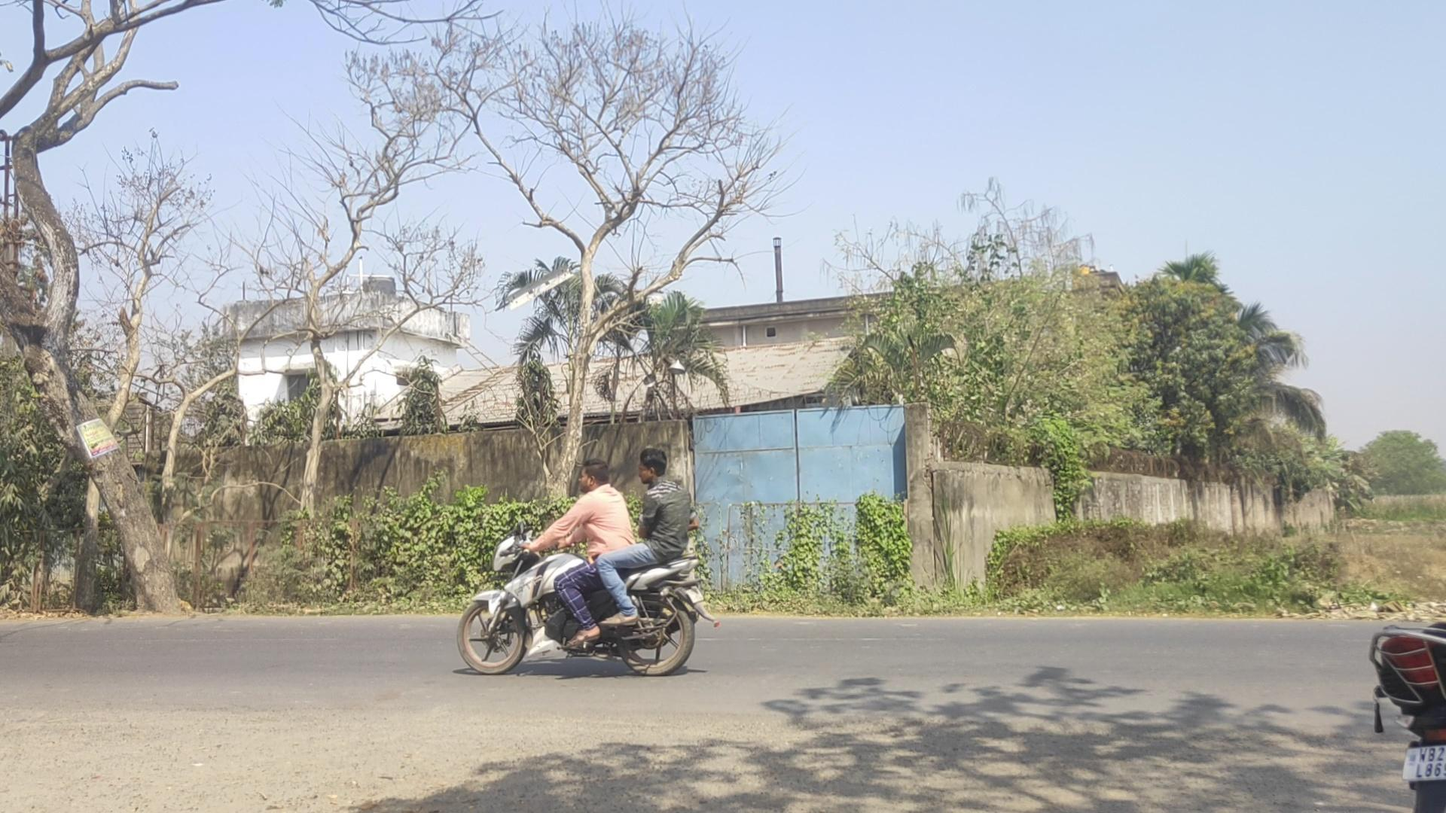bike: (457, 448, 716, 680)
